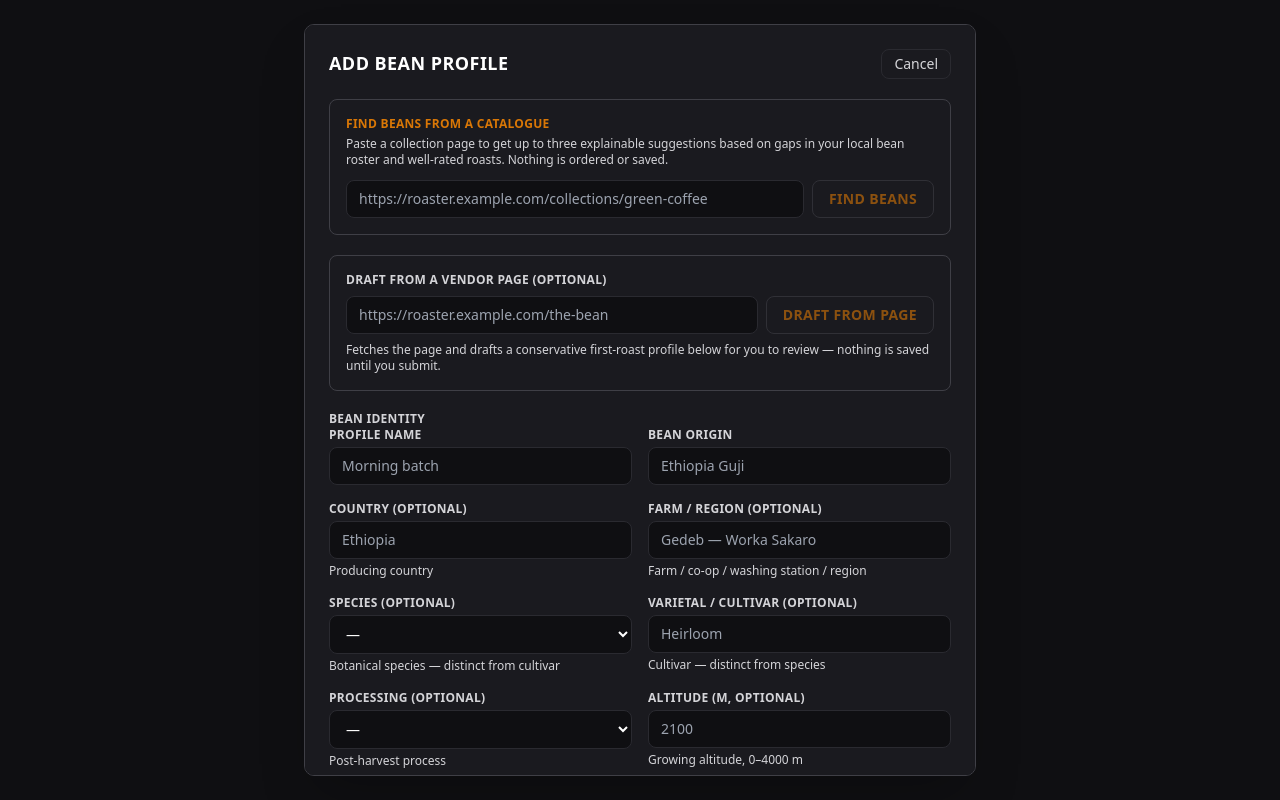
Scenario: BeanProfileModal draft-from-URL (#573 phase 1, #627, #637) › drafts from a URL and seeds the form, lighting up the #627 provenance badges + evidence quote
The image size is (1280, 800).
In the field with test id "bean-profile-draft-url": (552, 315) [346,296,758,334], type "https://roaster.example.com/guji-uraga"
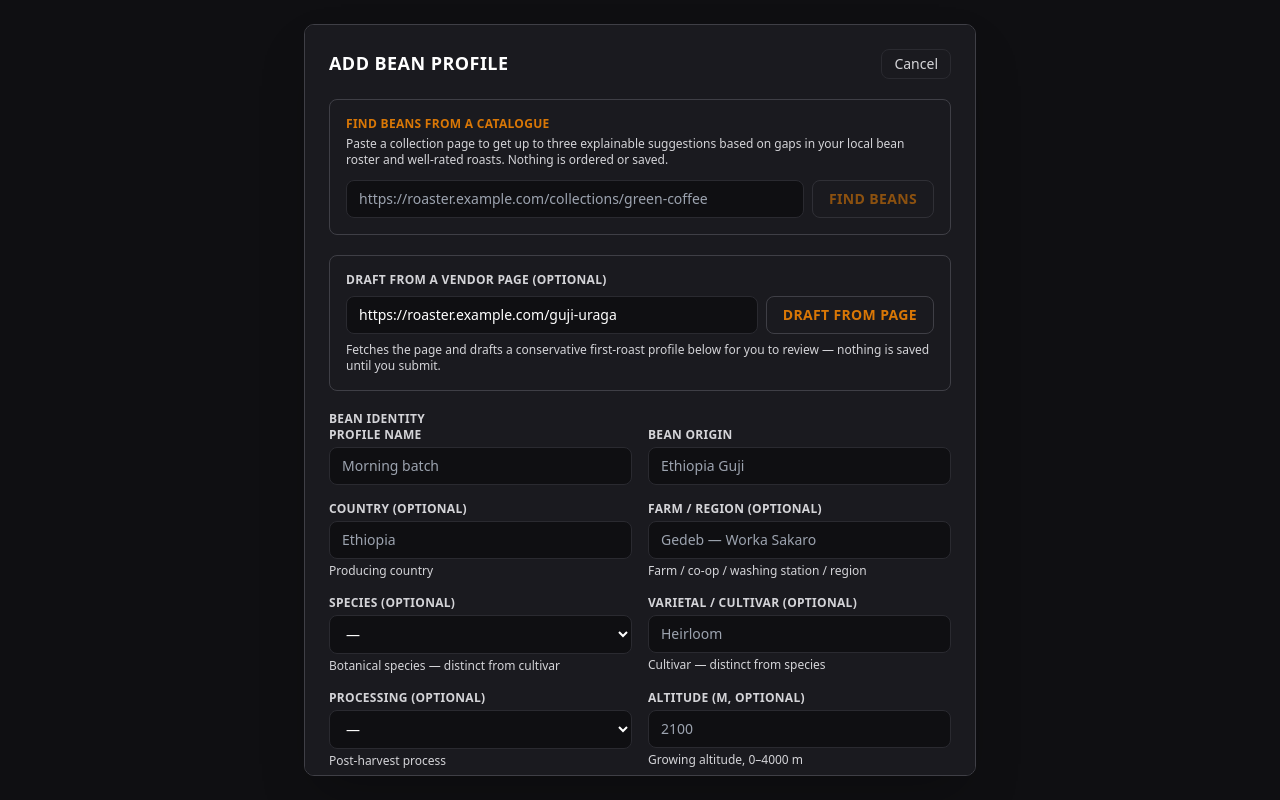
Click the button with test id "bean-profile-draft-button": (850, 315) [766,296,934,334]
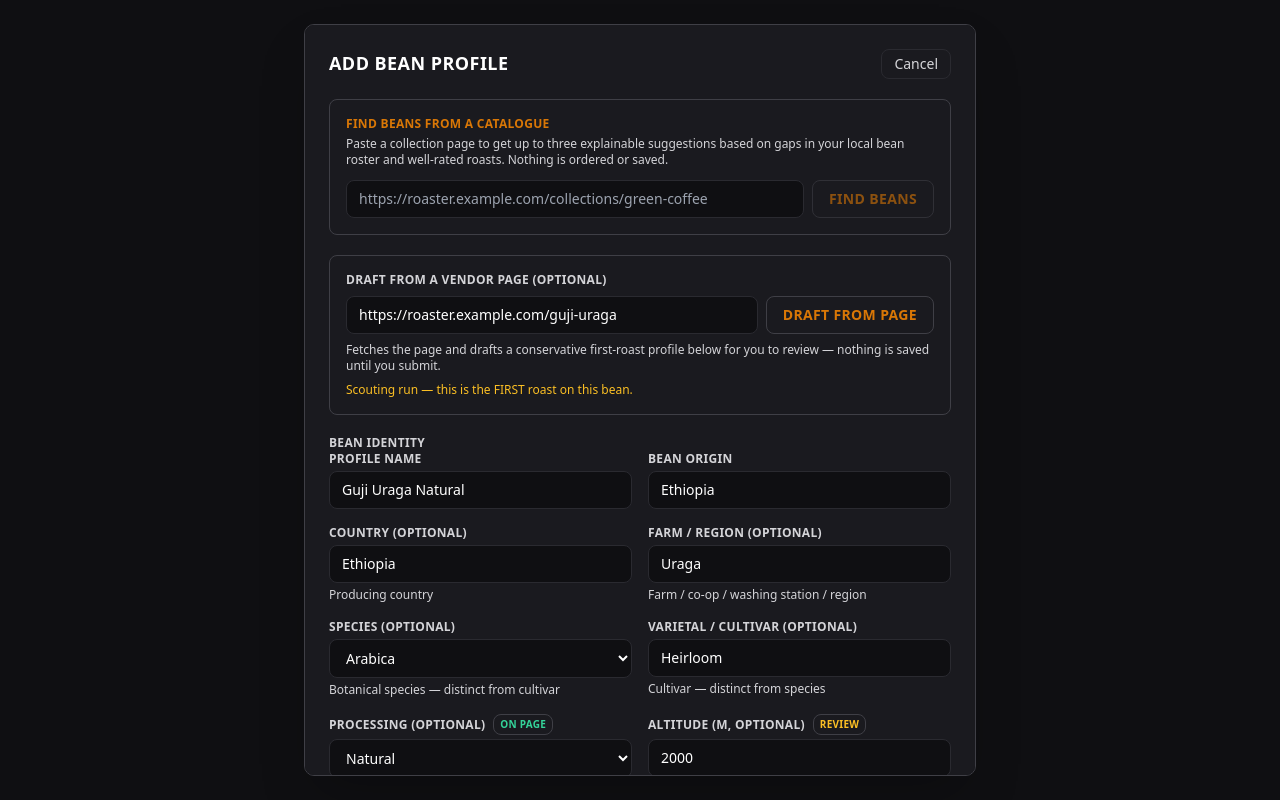
Check: the field with test id "bean-profile-name" holds "Guji Uraga Natural", box [329,471,632,509]
Check: the field with test id "bean-profile-bean_origin" holds "Ethiopia", box [648,471,951,509]
Check: the dropdown with test id "bean-profile-processing" shows "Natural", box [329,739,632,776]
